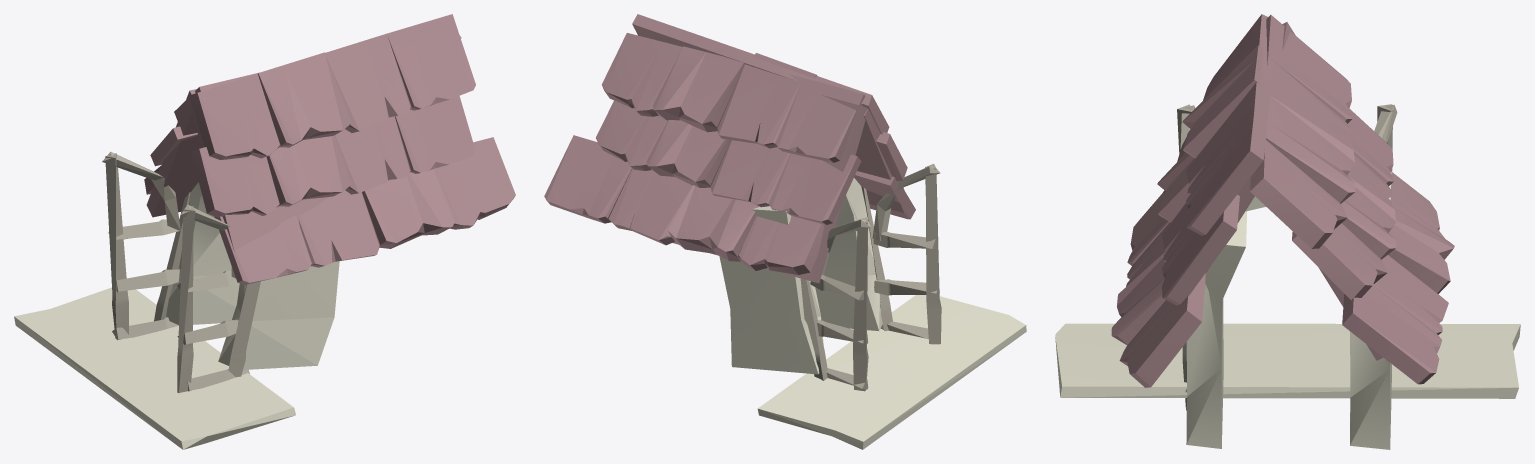
Rendered from WindowsOpen.fbx.
3 renders of one model, left to right at view 1: azimuth 30°, elevation 25°; view 2: azimuth 150°, elevation 25°; view 3: azimuth 270°, elevation 25°, orthographic. The views are drawn at different scales.
Parts seen in each view (by area): view 1: WindowsOpen; view 2: WindowsOpen; view 3: WindowsOpen.
Boxes of the visible parts, x1=… form: WindowsOpen: x1=14, y1=14, x2=515, y2=449; WindowsOpen: x1=544, y1=14, x2=1026, y2=449; WindowsOpen: x1=1055, y1=14, x2=1520, y2=449.
Size of the model in its own units: 384 by 307 by 310.
